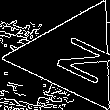N_NW: (36, 26, 108, 86)
